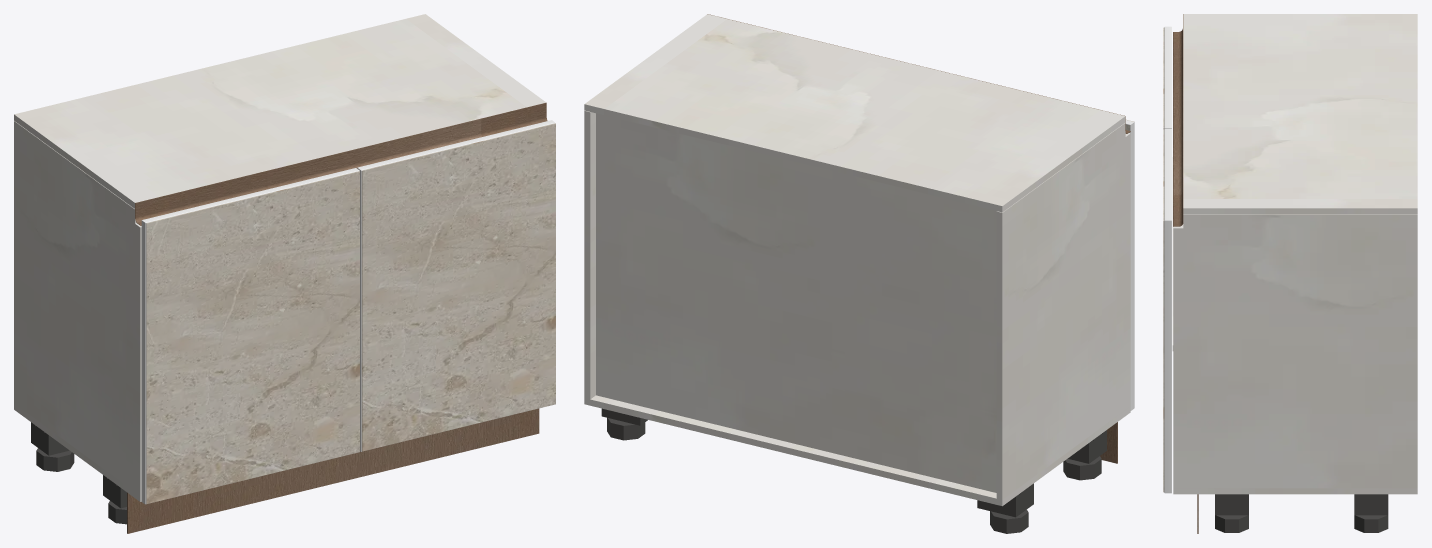
The model's file is S550_BBC1S1HS_RH_CJ (H720xW1050xD560).glb.
3 views of the same model, side by side, from view 1: azimuth 30°, elevation 25°; view 2: azimuth 150°, elevation 25°; view 3: azimuth 270°, elevation 25° (orthographic). The views are drawn at different scales.
Size of what is drawn, in the model's own units: 1.05 by 0.82 by 0.5809.
Materials: 6 (3 with a texture image).
